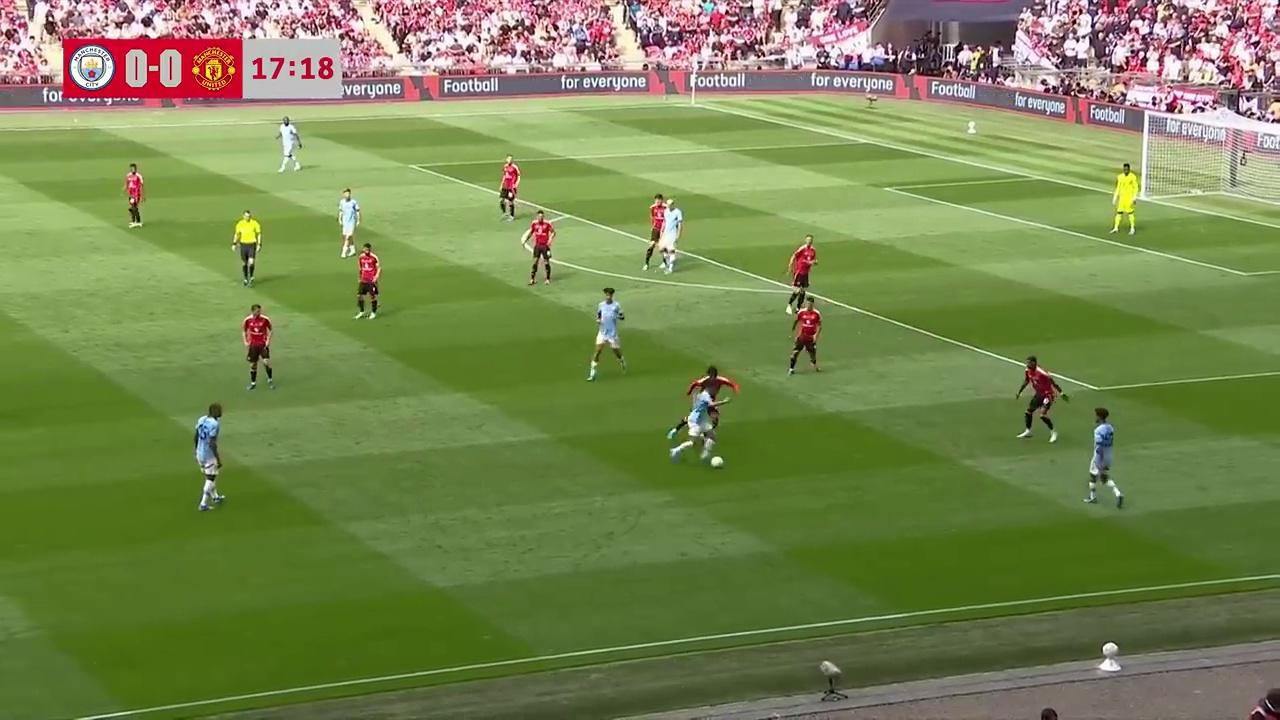ball: (708, 452, 725, 469)
player: (667, 372, 718, 464), (1015, 355, 1066, 442), (1084, 407, 1124, 509), (586, 287, 628, 381), (692, 365, 741, 433), (194, 402, 224, 512), (242, 303, 275, 391), (787, 298, 822, 375), (521, 210, 556, 286), (786, 234, 817, 311), (1110, 164, 1138, 235), (655, 199, 682, 272), (355, 243, 380, 320), (643, 193, 667, 270), (337, 187, 360, 258), (498, 156, 521, 221), (276, 116, 302, 172), (123, 163, 145, 227)
referee: (232, 209, 261, 287)
